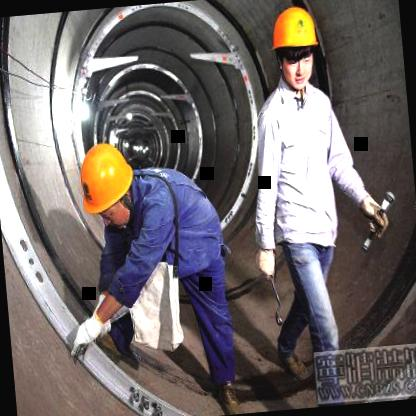helmet: (76, 132, 146, 233), (263, 0, 329, 97)
